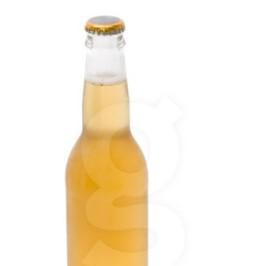beer: (66, 16, 150, 266)
